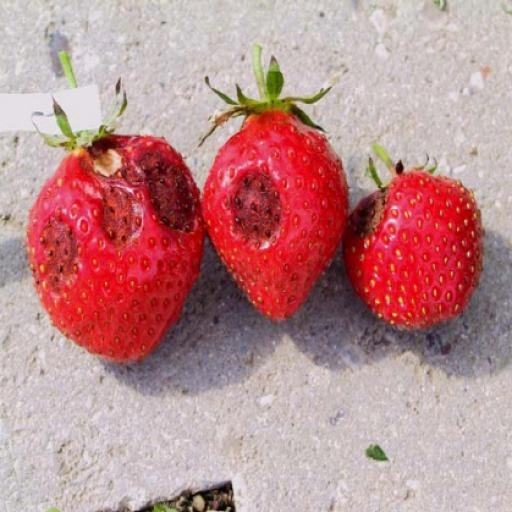Anthracnose Fruit Rot: (312, 140, 483, 297), (225, 171, 288, 241), (116, 185, 160, 240)
